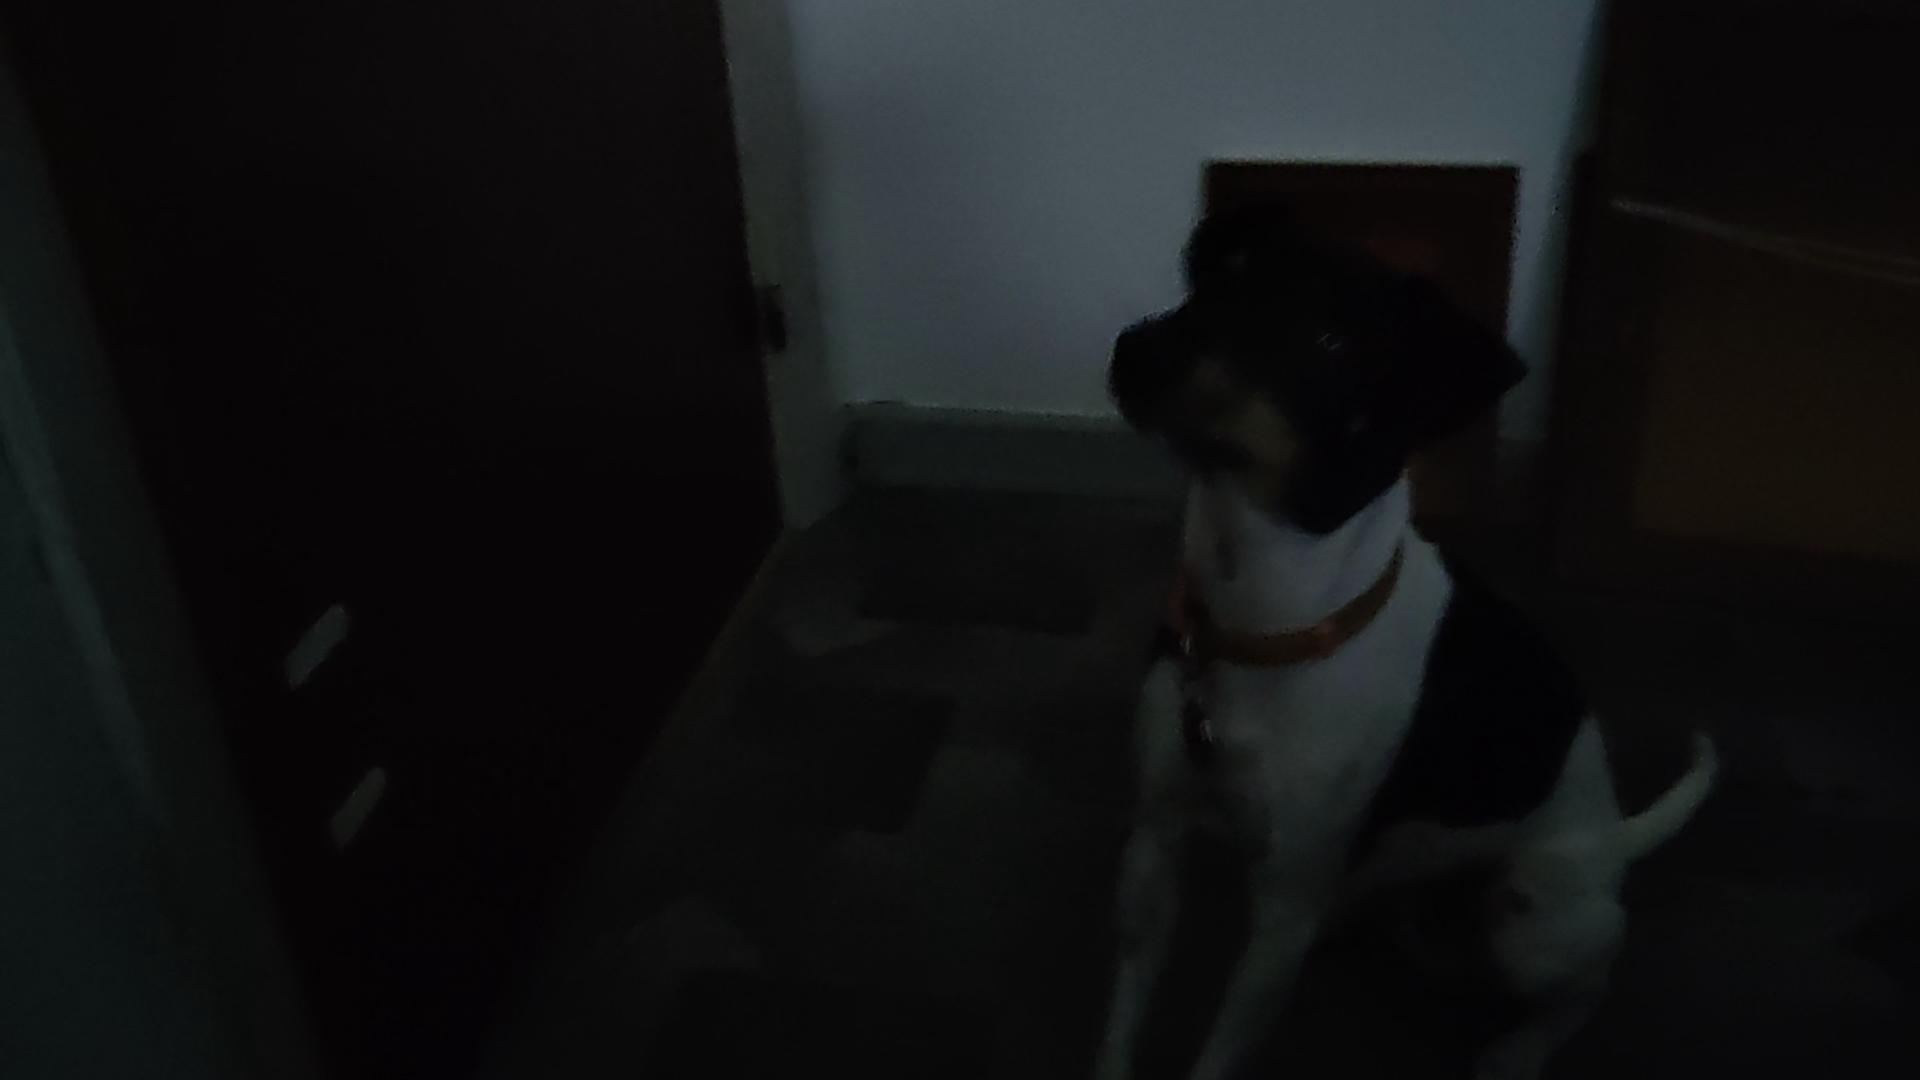Dog: (1050, 179, 1737, 1079)
